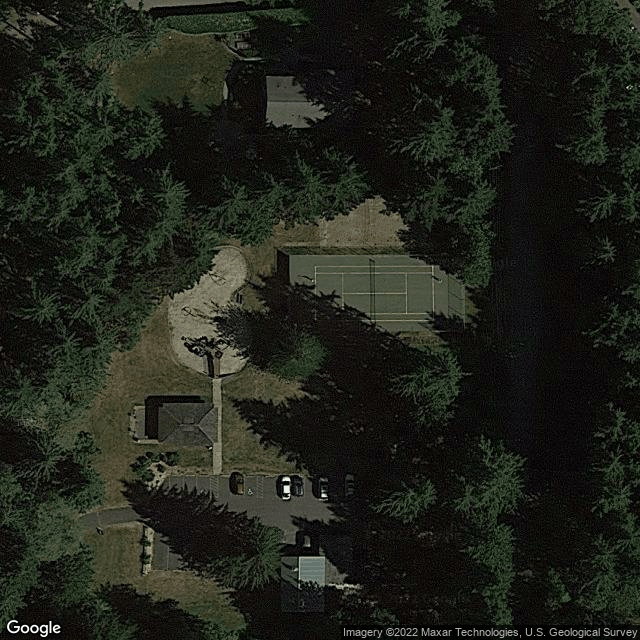Court: (314, 263, 434, 322)
